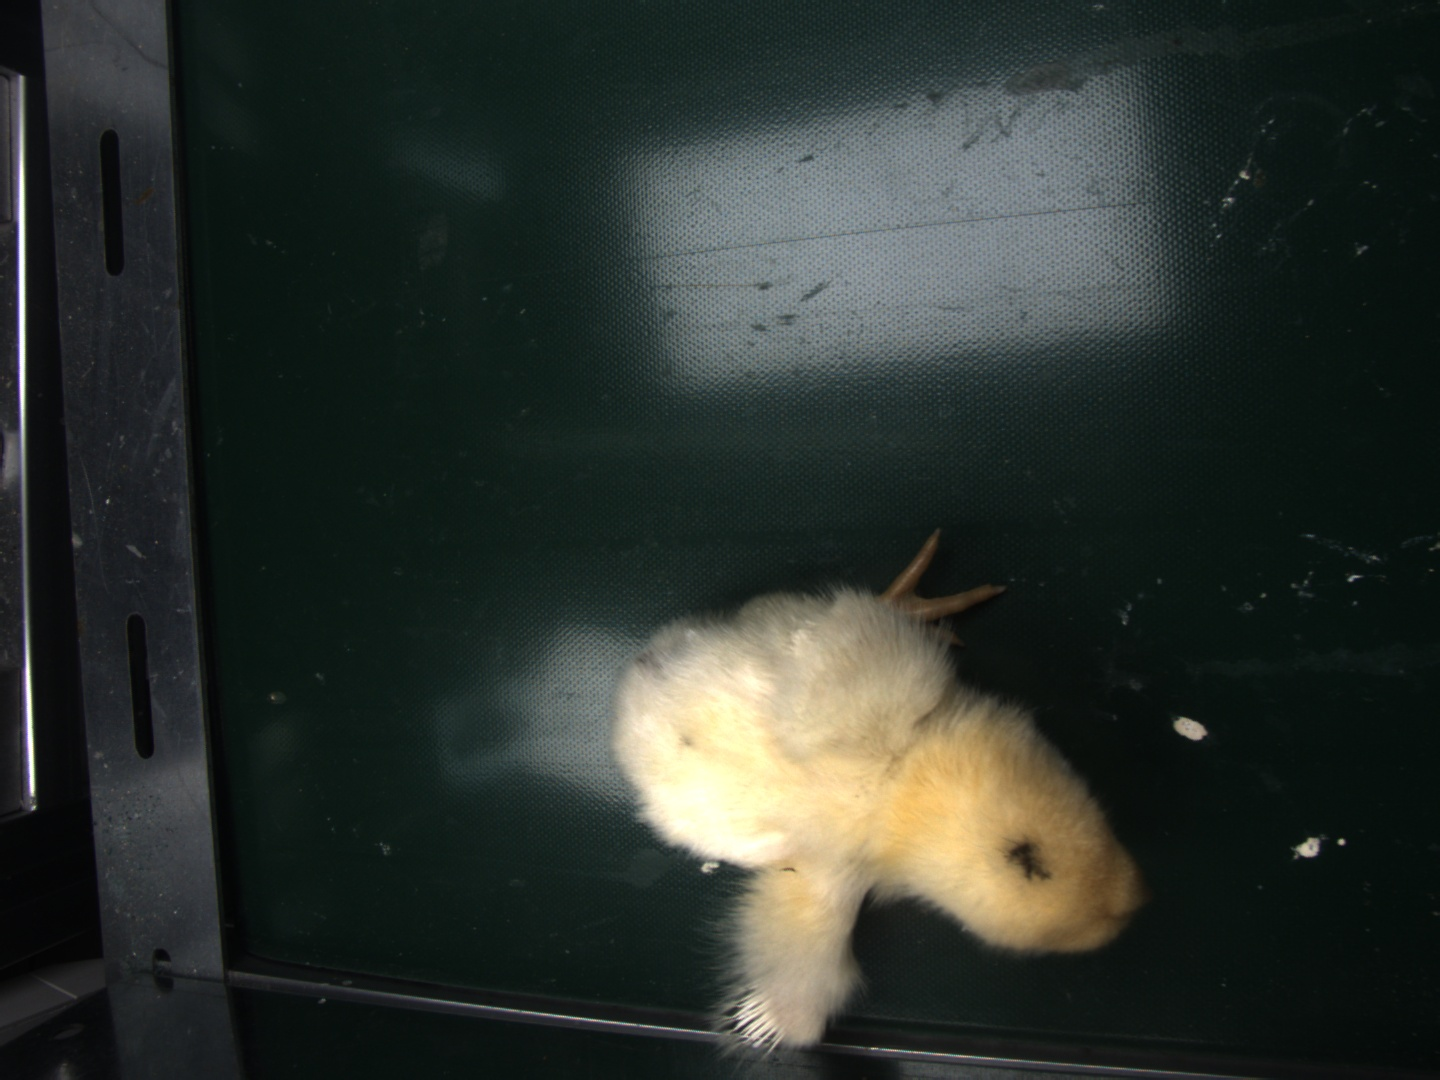male: (726, 986, 791, 1052)
